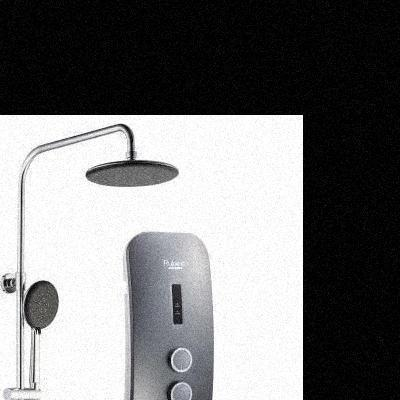Ducha: (0, 115, 234, 400)
